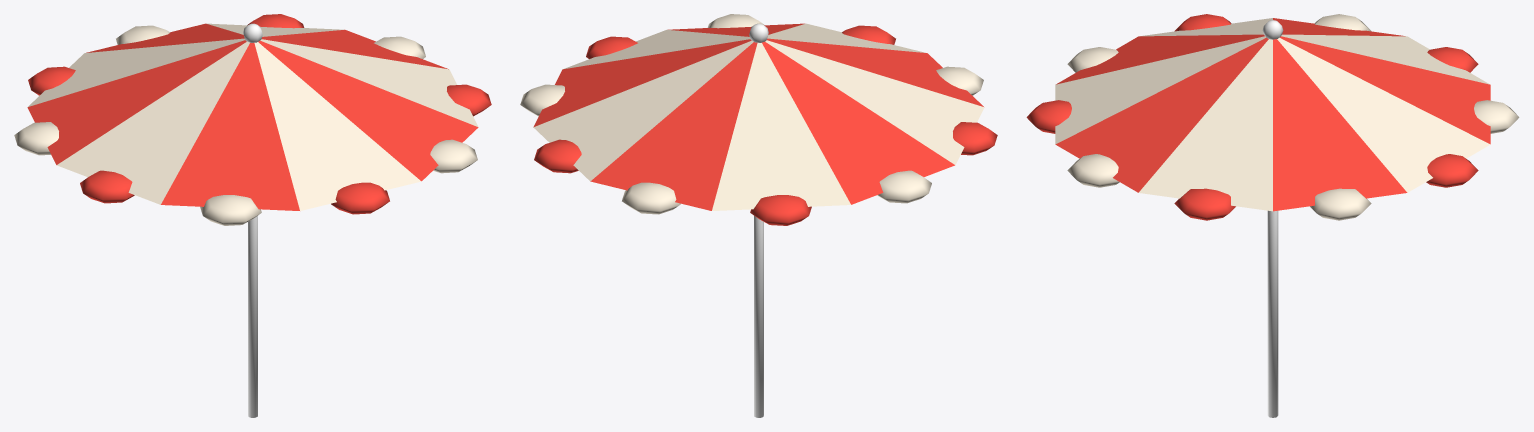
File: umbrella.glb
3 views of the same model, side by side, from view 1: azimuth 30°, elevation 25°; view 2: azimuth 150°, elevation 25°; view 3: azimuth 270°, elevation 25° (orthographic).
Parts seen in each view (by area): view 1: Umbrella; view 2: Umbrella; view 3: Umbrella.
Part boxes in pixels (bbox=[...]): Umbrella: bbox=[14, 14, 491, 417]; Umbrella: bbox=[520, 14, 997, 417]; Umbrella: bbox=[1026, 14, 1519, 417].
Bounding box in the file's own units: 3.2 × 2.95 × 3.34.
